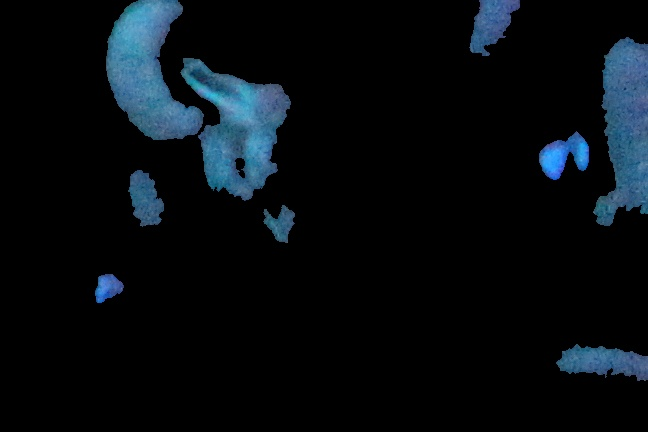larvae: (93, 1, 216, 159), (588, 29, 648, 228)
